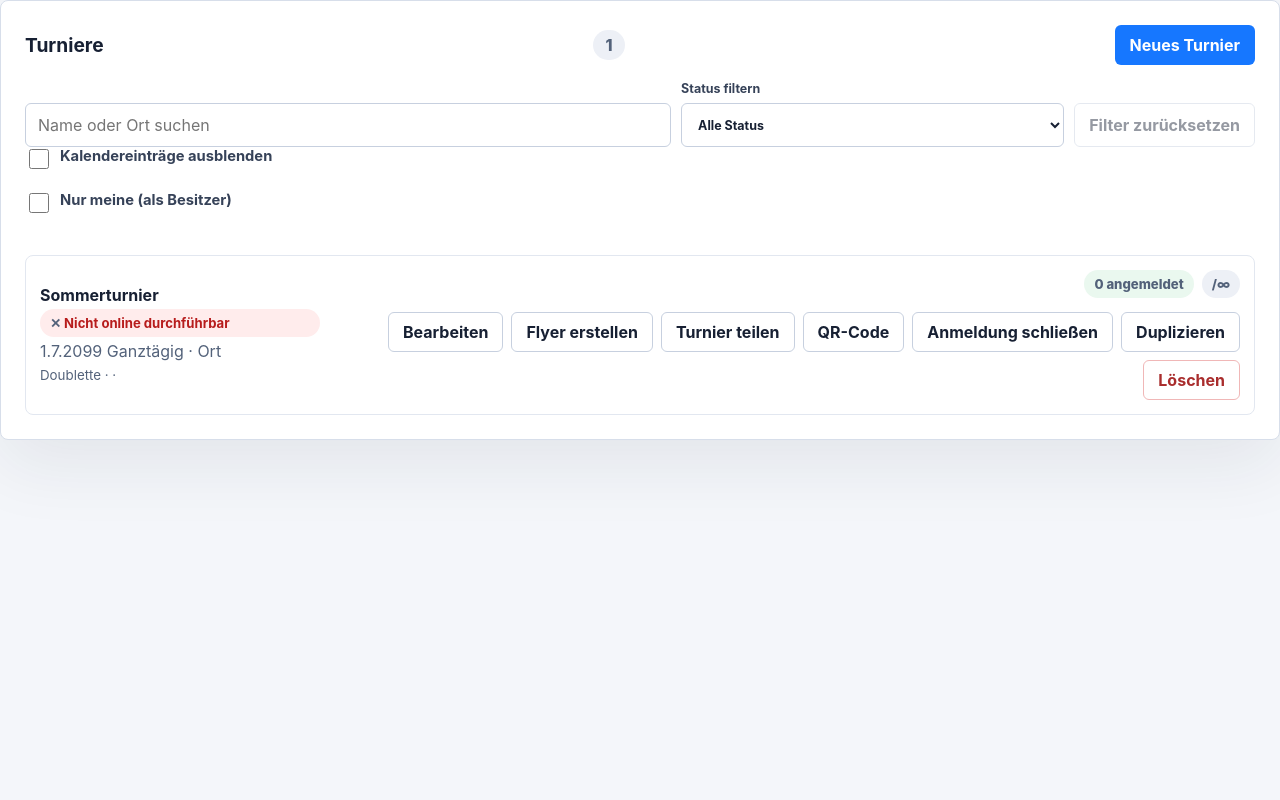
Hinweis ohne Mail-Freischaltung › zeigt dem Ersteller beim Anlegen, dass Statusmeldungen nur im Postfach landen
Click the button "Neues Turnier" at (1185, 45), box top-left (1115, 25), bottom-right (1255, 65)
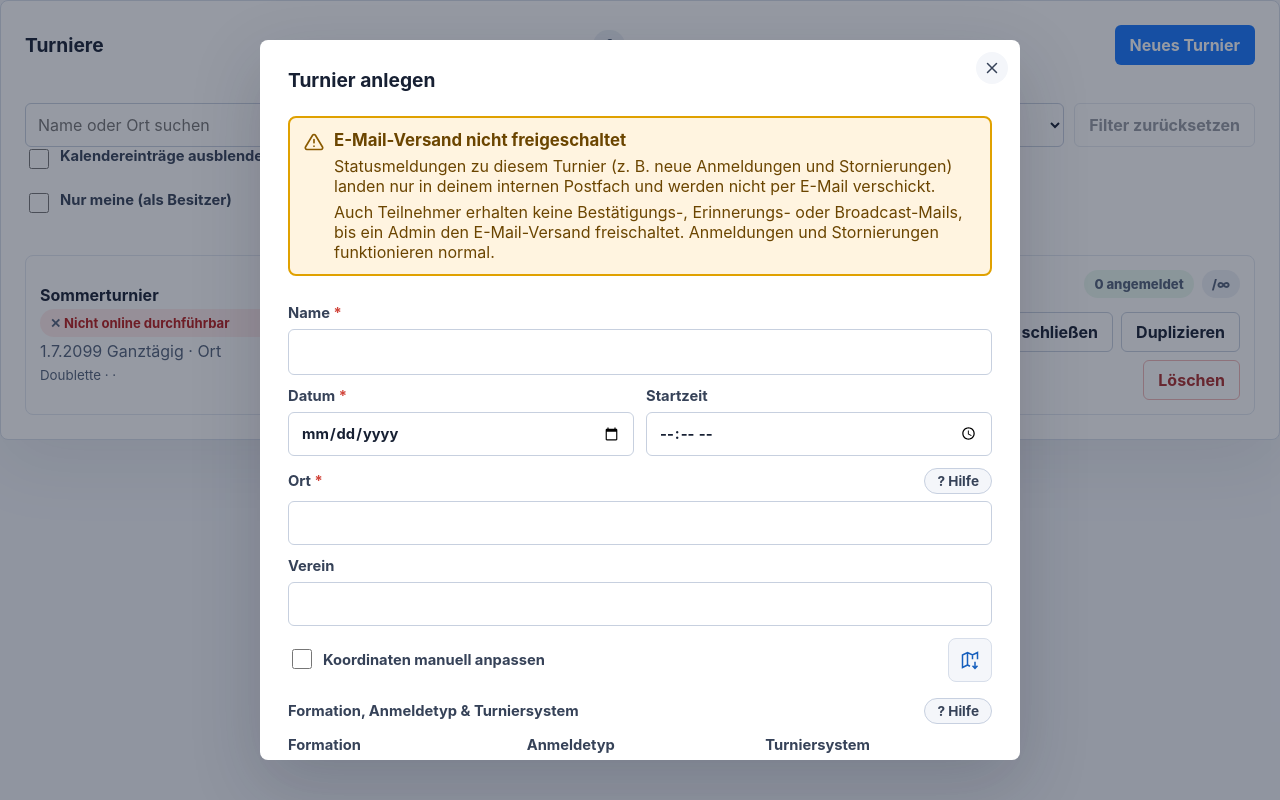
Expected: the text "E-Mail-Versand nicht freigeschaltet" shows "landen nur in deinem internen Postfach und werden nicht per E-Mail verschickt", top-left (334, 156), bottom-right (952, 196)
